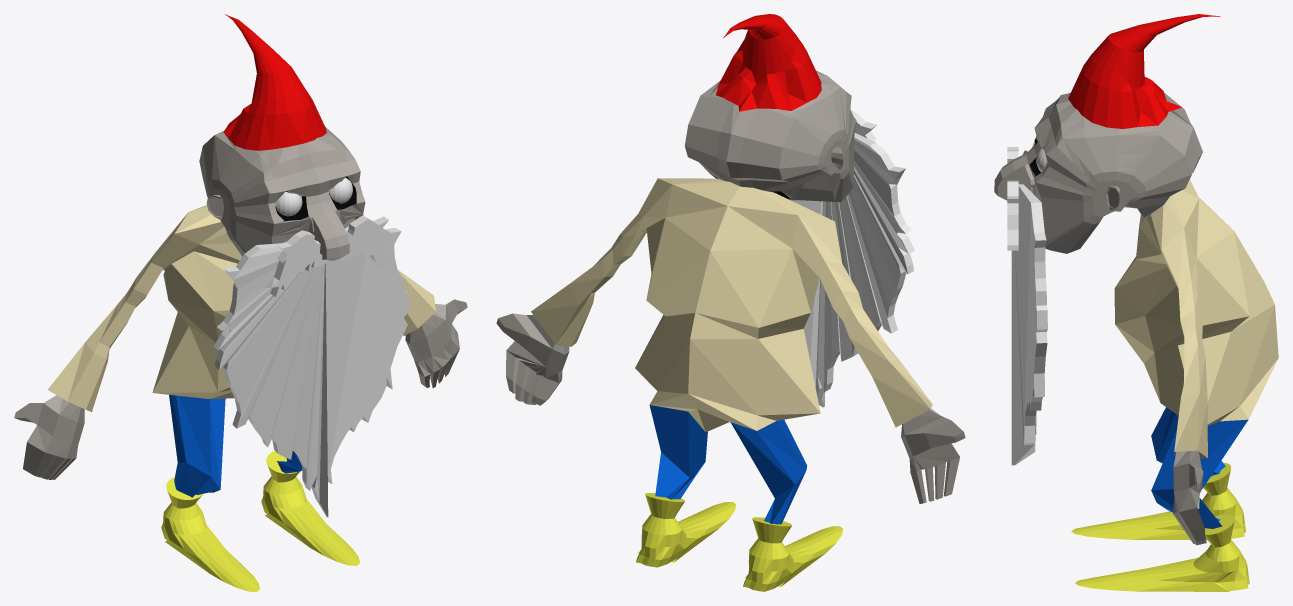
The model's file is dwarf_alpha.fbx.
3 views of the same model, side by side, from view 1: azimuth 30°, elevation 25°; view 2: azimuth 150°, elevation 25°; view 3: azimuth 270°, elevation 25° (orthographic). The views are drawn at different scales.
Parts seen in each view (by area): view 1: polySurface8; view 2: polySurface8; view 3: polySurface8.
Part boxes in pixels (x1=…): polySurface8: x1=14, y1=14, x2=467, y2=591; polySurface8: x1=496, y1=14, x2=965, y2=591; polySurface8: x1=994, y1=14, x2=1278, y2=591.
Bounding box in the file's own units: 15.87 × 17.28 × 8.29.
